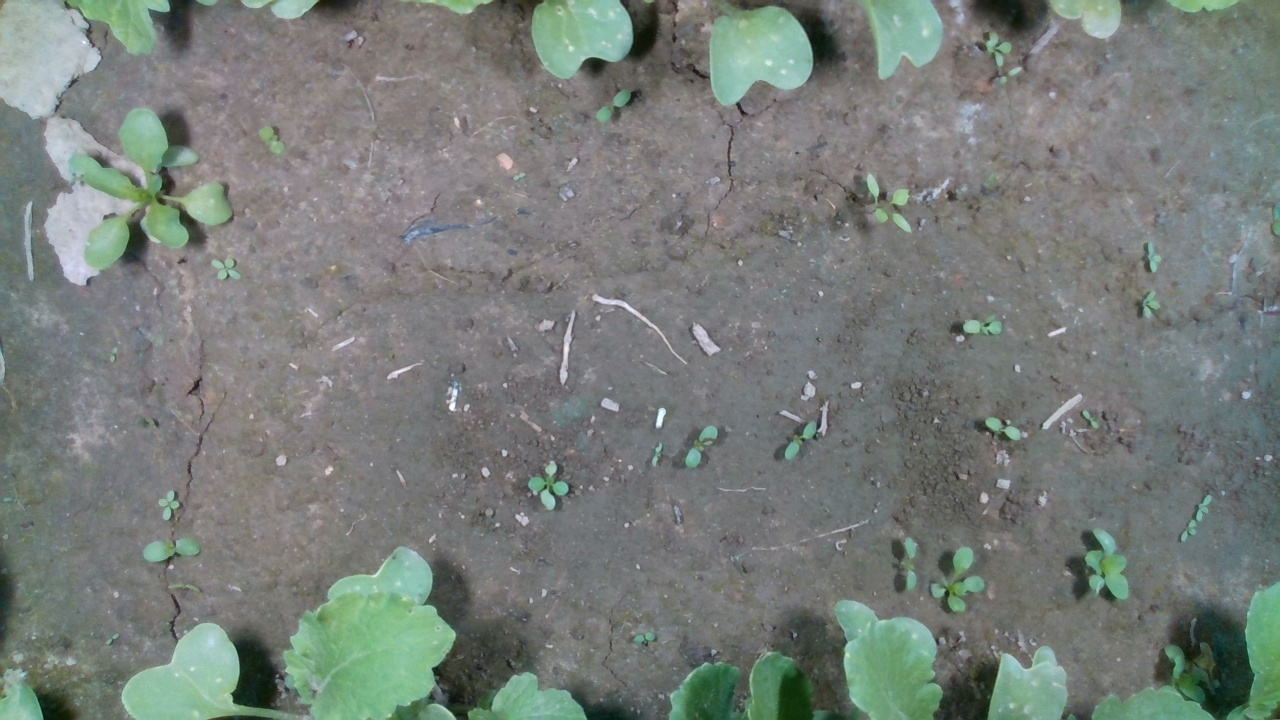weed: (866, 172, 913, 235), (526, 458, 570, 513), (684, 423, 719, 470), (142, 537, 202, 563), (783, 418, 818, 462), (593, 87, 632, 124), (981, 414, 1023, 443), (984, 29, 1011, 70), (961, 312, 1004, 336), (903, 537, 921, 594), (156, 486, 182, 521), (258, 125, 286, 155), (210, 257, 242, 282), (1141, 288, 1161, 320), (1145, 239, 1163, 273), (166, 582, 202, 595), (649, 440, 664, 468), (1080, 407, 1099, 429), (1180, 518, 1197, 542), (106, 632, 120, 647)
